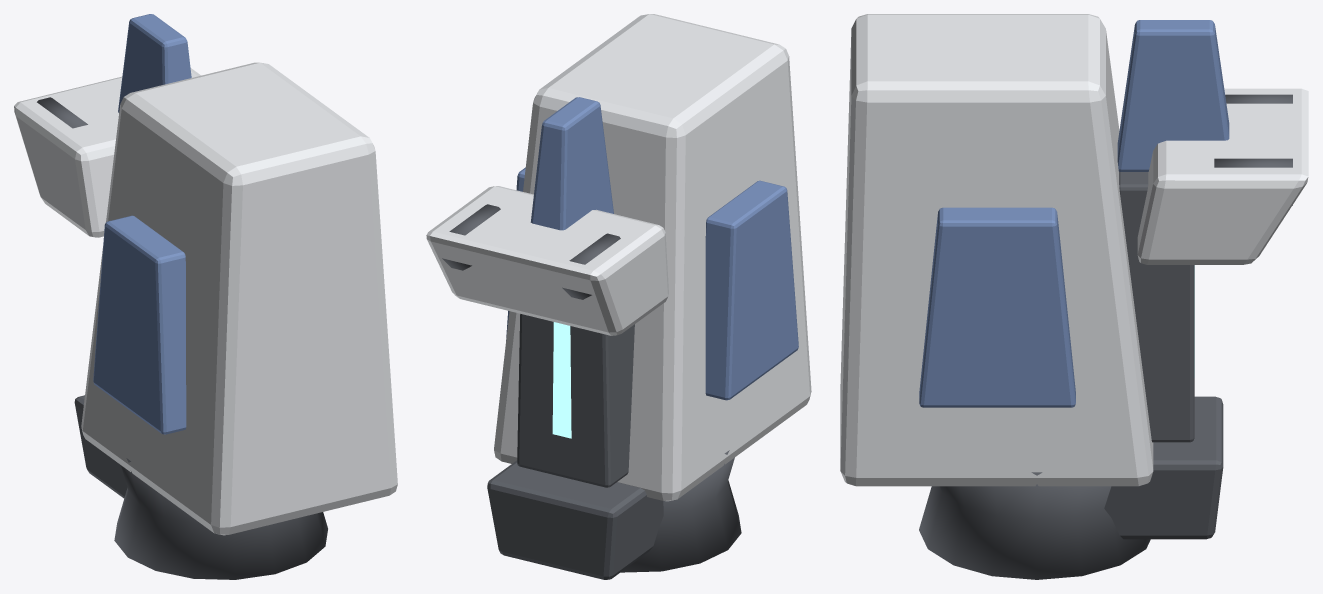
Rendered from head_tall.glb.
3 renders of one model, left to right at view 1: azimuth 30°, elevation 25°; view 2: azimuth 150°, elevation 25°; view 3: azimuth 270°, elevation 25°, orthographic. The views are drawn at different scales.
Visible parts, largest first — view 1: skull, ear, neck, brow, ridge, chin, vulcan; view 2: skull, brow, ear, face_slot, chin, ridge, neck, slit_eye, vulcan, vulcan.001; view 3: skull, ear.001, brow, neck, ridge, face_slot, chin, vulcan.001, vulcan.
Boxes of the visible parts, x1,y1,x2,y2 form: skull: (81,62,397,535); ear: (93,215,186,434); neck: (114,458,327,579); brow: (14,68,200,237); ridge: (118,14,191,112); chin: (74,395,127,498); vulcan: (37,97,87,128); skull: (494,14,811,501); brow: (426,186,668,335); ear: (705,180,798,400); face_slot: (517,314,634,487); chin: (487,460,663,579); ridge: (530,97,613,230); neck: (621,450,741,572); slit_eye: (552,322,571,438); vulcan: (562,233,620,299); vulcan.001: (442,204,500,270); skull: (840,14,1153,486); ear.001: (919,207,1075,407); brow: (1137,88,1308,264); neck: (919,472,1150,579); ridge: (1117,20,1229,171); face_slot: (1119,171,1194,442); chin: (1104,396,1223,539); vulcan.001: (1214,158,1292,205); vulcan: (1225,94,1292,103).
Size of the model in its own units: 1.22 by 2.41 by 2.02.
